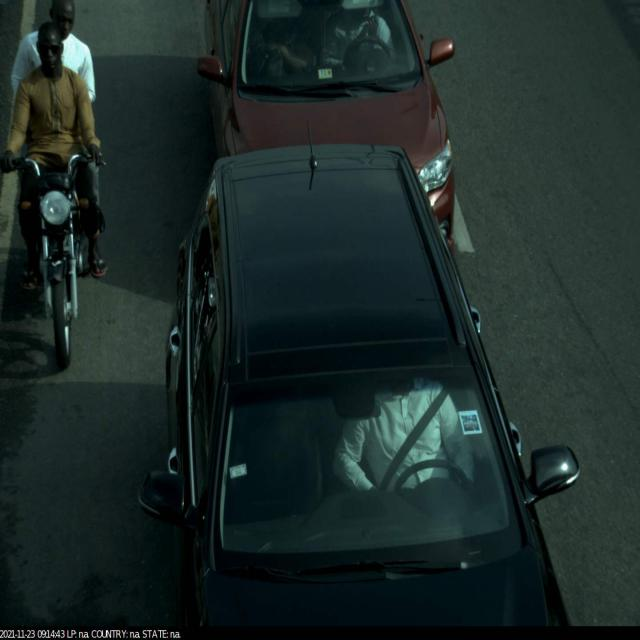windshield: (207, 350, 536, 595), (231, 0, 429, 104)
